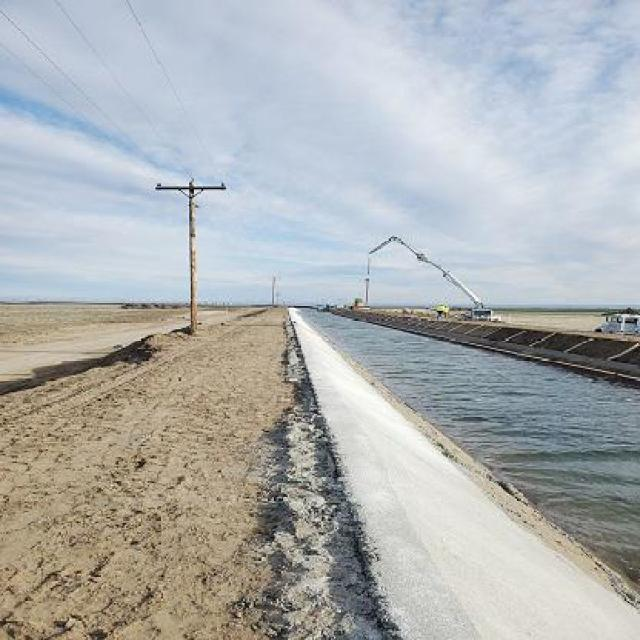pole: (146, 164, 226, 330)
